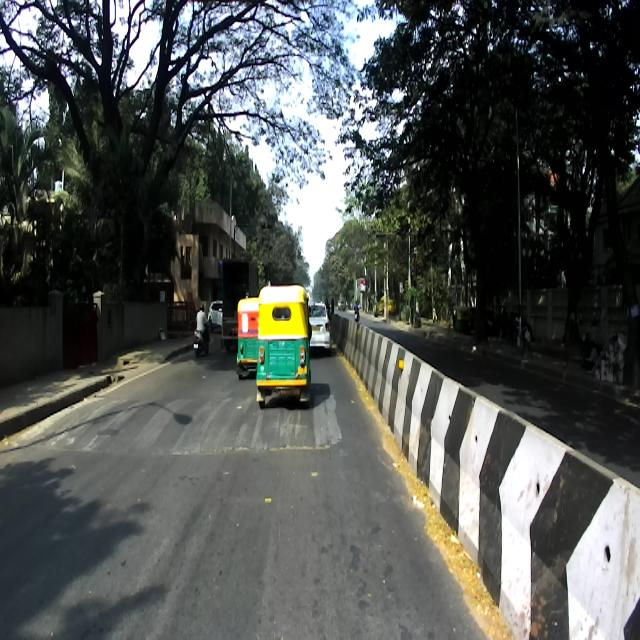auto ahead at: (258, 292, 309, 409)
